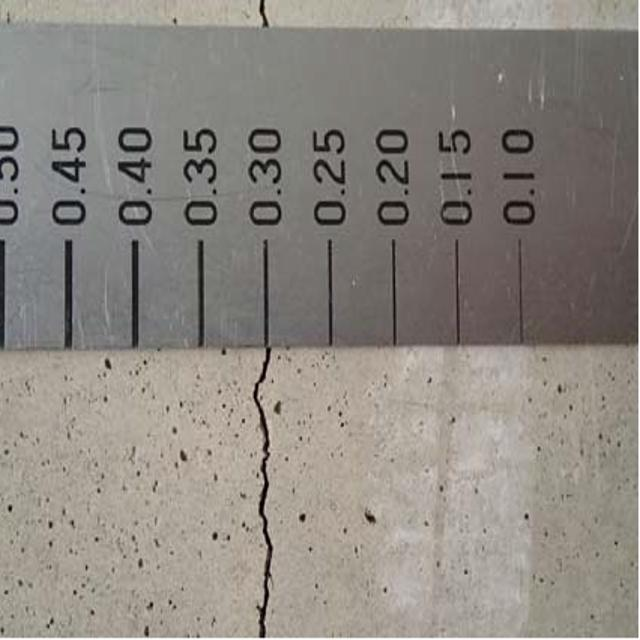crack: (225, 328, 301, 640)
leakage: (243, 0, 314, 43)
